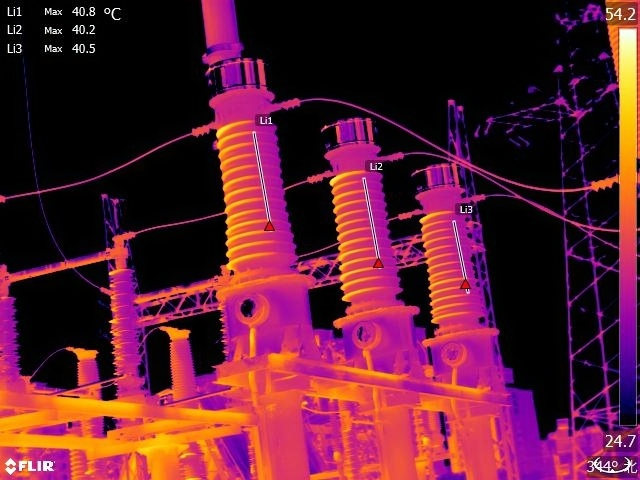circuit breaker: (71, 341, 105, 440), (166, 315, 202, 406)
current transformer: (194, 52, 323, 324), (321, 109, 425, 368), (410, 151, 512, 373)
post insulator: (108, 263, 143, 377), (1, 292, 22, 391)
switch: (1, 236, 129, 302)
